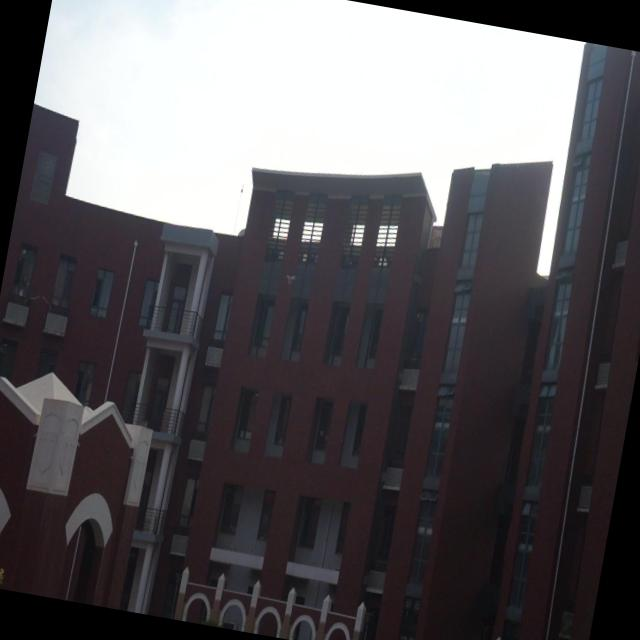drone: (281, 268, 300, 290)
